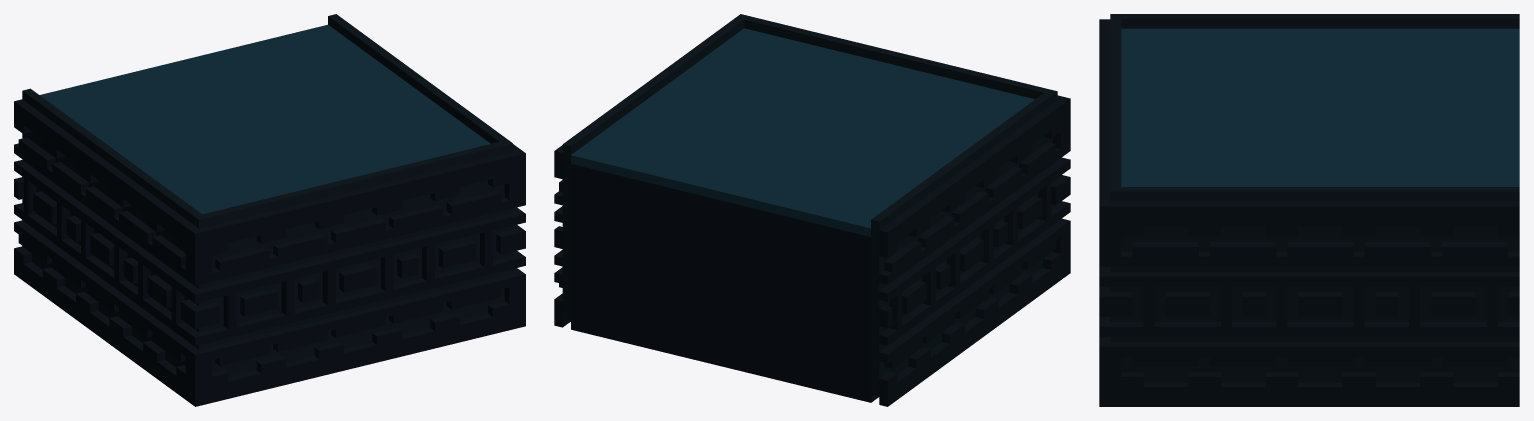
The model's file is Block_Base_End.obj.
3 views of the same model, side by side, from view 1: azimuth 30°, elevation 25°; view 2: azimuth 150°, elevation 25°; view 3: azimuth 270°, elevation 25° (orthographic). The views are drawn at different scales.
Bounding box in the file's own units: 1 × 0.525 × 0.95.
